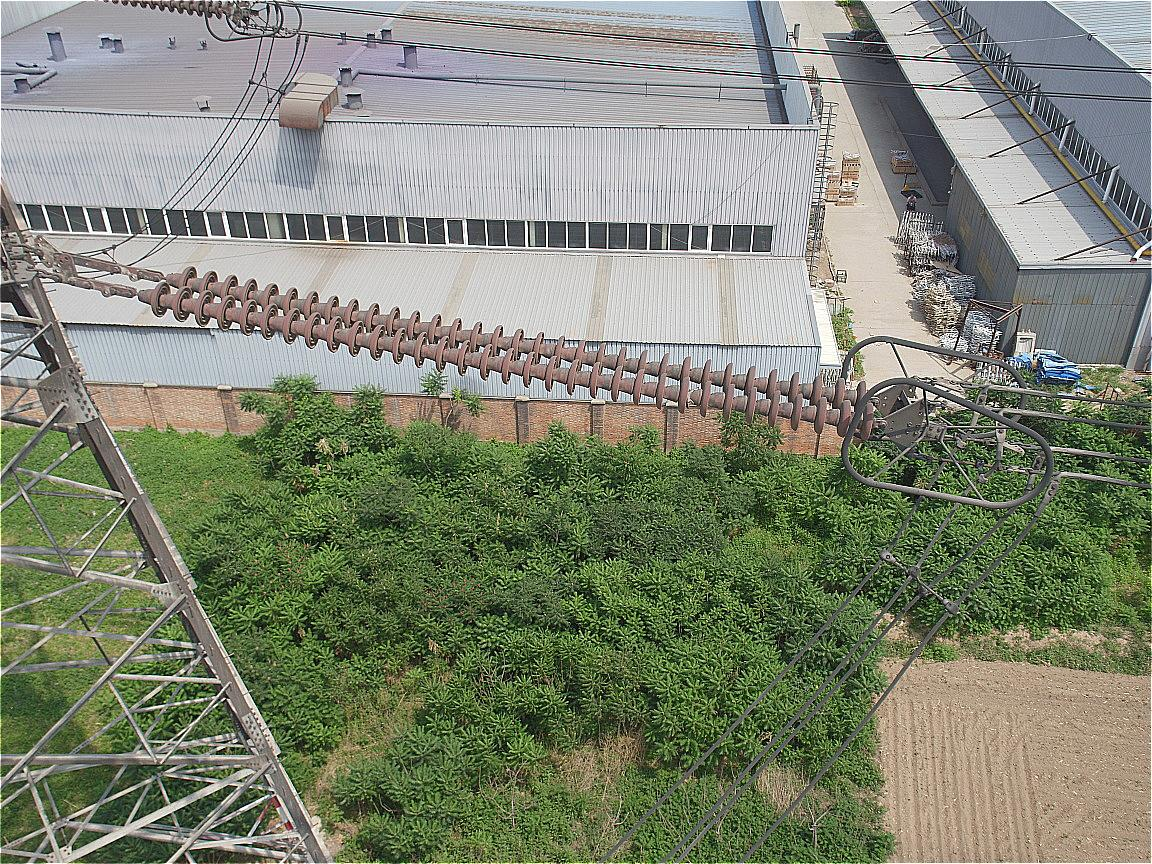insultor1: (149, 268, 876, 443)
